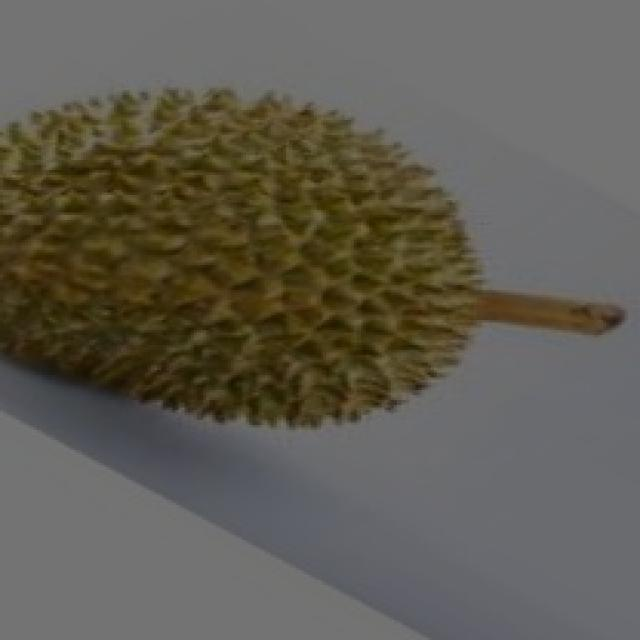fruit: (0, 52, 348, 498), (194, 65, 541, 497)
